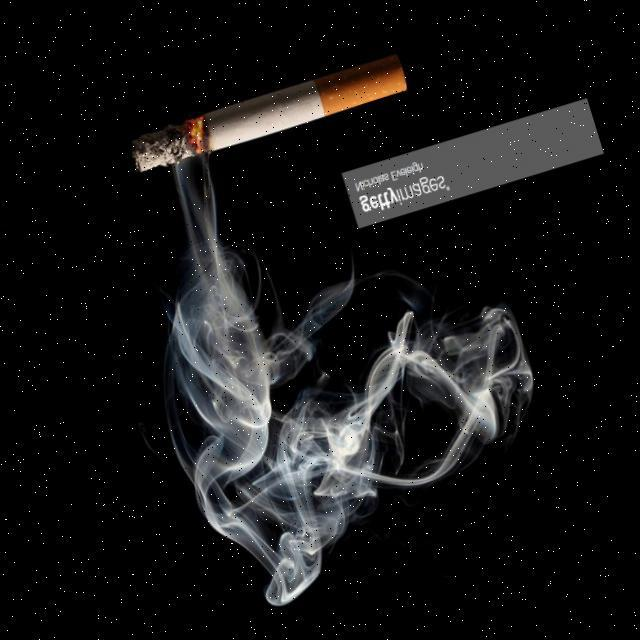cigarette: (124, 54, 408, 175)
